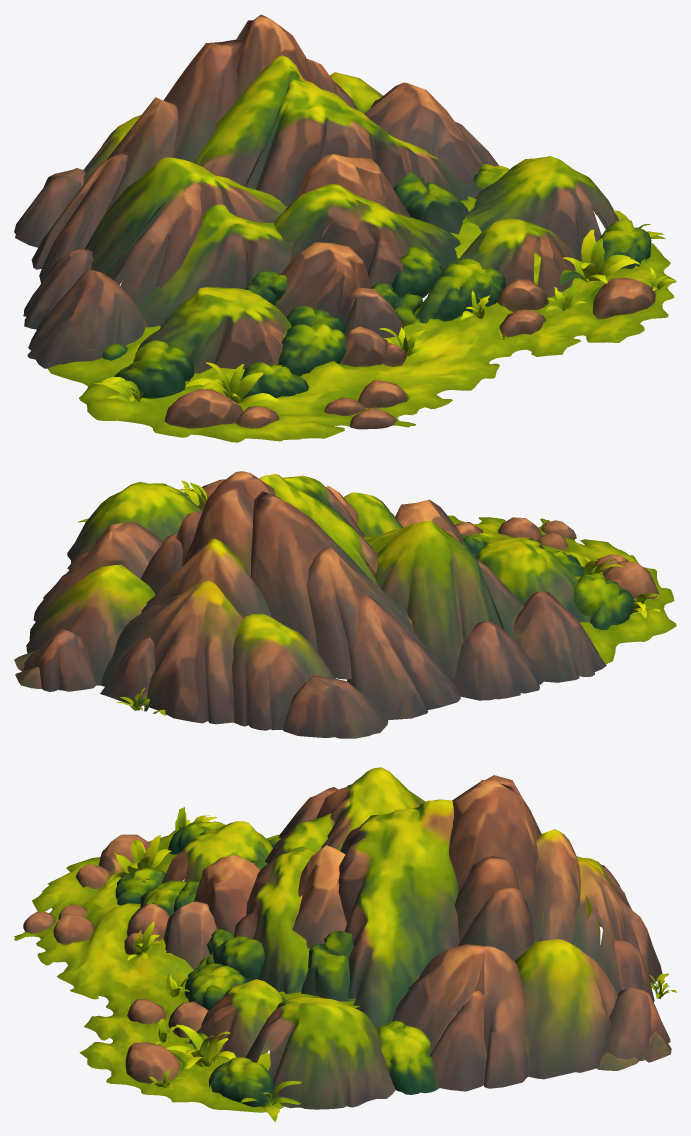
File: montana.fbx
The picture shows the model from 3 angles, top to bottom: view 1: azimuth 30°, elevation 25°; view 2: azimuth 150°, elevation 25°; view 3: azimuth 270°, elevation 25°; orthographic projection. The views are drawn at different scales.
Parts seen in each view (by area): view 1: geometry_0; view 2: geometry_0; view 3: geometry_0.
Boxes of the visible parts, x1=… form: geometry_0: x1=14, y1=14, x2=676, y2=442; geometry_0: x1=14, y1=471, x2=676, y2=738; geometry_0: x1=14, y1=767, x2=676, y2=1121.
Size of the model in its own units: 95.56 by 30.66 by 91.11.
1 material, 1 textured.
